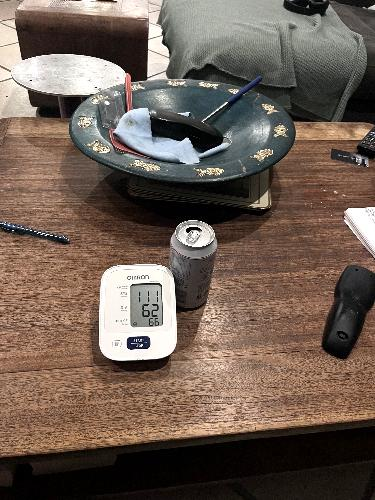bpm: (128, 282, 164, 328)
